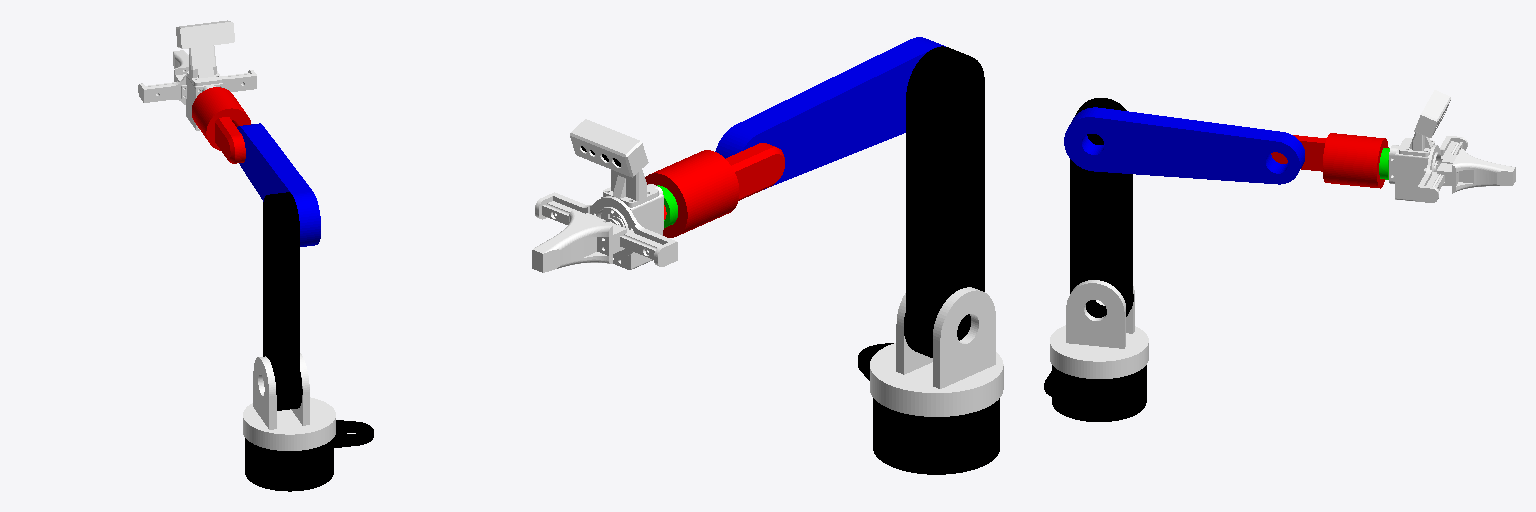
robot.urdf — my_arm:
<?xml version="1.0"?>
<robot name="my_arm" xmlns:xacro="http://www.ros.org/wiki/xacro">

    <!--
      Homing reference (real arm resting on all 5 switches), in model radians:
        base_joint = 0.00   joint_1 = 0.40   joint_2 = -1.25   joint_3 = 1.54   joint_4 = -1.57
      Joint limits keep a 0.02 rad (~1 deg) margin inside each switch so MoveIt never
      plans onto a switch. The far-side limits are kept as you set them.
    -->

    <material name="red">
        <color rgba="1 0 0 1"/>
    </material>

    <material name="white">
        <color rgba="1 1 1 1"/>
    </material>

    <material name="blue">
        <color rgba="0 0 1 1"/>
    </material>

    <material name="black">
      <color rgba="0 0 0 1"/>
    </material>

    <material name="green">
      <color rgba="0 1 0 1"/>
    </material>

    <link name="world"/>

    <joint name="world_to_base" type="fixed">
        <parent link="world"/>
        <child link="base_link"/>
        <origin xyz="0 0 0" rpy="0 0 0"/>
    </joint>

    <link name="base_link">
        <visual>
            <origin xyz="0 0 0" rpy="0 0 2.65"/>
            <geometry>
              <mesh filename="package://robot_arm/mesh/base_link.stl" scale="0.001 0.001 0.001"/>
            </geometry>
            <material name="black"/>
        </visual>
        <collision>
            <origin xyz="0 0 0" rpy="0 0 2.65"/>
            <geometry>
              <mesh filename="package://robot_arm/mesh/base_link.stl" scale="0.001 0.001 0.001"/>
            </geometry>
        </collision>
    </link>

    <link name="link_1">
        <visual>
            <origin xyz="0 0 0" rpy="0 0 0"/>
            <geometry>
              <mesh filename="package://robot_arm/mesh/link_1.stl" scale="0.001 0.001 0.001"/>
            </geometry>
            <material name="white"/>
        </visual>
        <collision>
            <origin xyz="0 0 0" rpy="0 0 0"/>
            <geometry>
              <mesh filename="package://robot_arm/mesh/link_1.stl" scale="0.001 0.001 0.001"/>
            </geometry>
        </collision>
    </link>

    <link name="link_2">
        <visual>
            <origin xyz="0 0 0" rpy="0 0 0"/>
            <geometry>
              <mesh filename="package://robot_arm/mesh/link_2.stl" scale="0.001 0.001 0.001"/>
            </geometry>
            <material name="black"/>
        </visual>
        <collision>
            <origin xyz="0 0 0" rpy="0 0 0"/>
            <geometry>
              <mesh filename="package://robot_arm/mesh/link_2.stl" scale="0.001 0.001 0.001"/>
            </geometry>
        </collision>
    </link>

    <link name="link_3">
        <visual>
            <origin xyz="0 0 0" rpy="0 0 0"/>
            <geometry>
                <mesh filename="package://robot_arm/mesh/link_3.stl" scale="0.001 0.001 0.001"/>
            </geometry>
            <material name="blue"/>
        </visual>
        <collision>
            <origin xyz="0 0 0" rpy="0 0 0"/>
            <geometry>
                <mesh filename="package://robot_arm/mesh/link_3.stl" scale="0.001 0.001 0.001"/>
            </geometry>
        </collision>
    </link>

    <link name="link_4">
        <visual>
            <origin xyz="0 0 0" rpy="1.5708 0 0"/>
            <geometry>
                <mesh filename="package://robot_arm/mesh/link_4.stl" scale="0.001 0.001 0.001"/>
            </geometry>
            <material name="red"/>
        </visual>
        <collision>
            <origin xyz="0 0 0" rpy="1.5708 0 0"/>
            <geometry>
              <mesh filename="package://robot_arm/mesh/link_4.stl" scale="0.001 0.001 0.001"/>
            </geometry>
        </collision>
    </link>

    <link name="link_5">
        <visual>
            <origin xyz="0 0 0" rpy="0 0 0"/>
            <geometry>
              <mesh filename="package://robot_arm/mesh/link_5.stl" scale="0.001 0.001 0.001"/>
            </geometry>
            <material name="green"/>
        </visual>
        <collision>
            <origin xyz="0 0 0" rpy="0 0 0"/>
            <geometry>
              <mesh filename="package://robot_arm/mesh/link_5.stl" scale="0.001 0.001 0.001"/>
            </geometry>
        </collision>
    </link>

    <!-- ===================== GRIPPER (rack-and-pinion) ===================== -->
    <link name="gripper_base">
        <visual>
            <origin xyz="0 0 0.072405" rpy="1.5708 0 -1.5708"/>
            <geometry>
              <mesh filename="package://robot_arm/mesh/gripper_base.stl" scale="0.001 0.001 0.001"/>
            </geometry>
            <material name="white"/>
        </visual>
        <collision>
            <!-- FIXED: was xyz="0 0 072405" (72 km away) and yaw +1.57 instead of -1.57 -->
            <origin xyz="0 0 0.072405" rpy="1.5708 0 -1.5708"/>
            <geometry>
              <mesh filename="package://robot_arm/mesh/gripper_base.stl" scale="0.001 0.001 0.001"/>
            </geometry>
        </collision>
    </link>

    <joint name="gripper_mount" type="fixed">
        <parent link="link_5"/>
        <child link="gripper_base"/>
        <origin xyz="0 0 0" rpy="0 0 0"/>
    </joint>

    <link name="left_finger">
        <visual>
            <origin xyz="0 0 0.0725" rpy="1.5708 0 1.5708"/>
            <geometry>
              <mesh filename="package://robot_arm/mesh/finger.stl" scale="0.001 0.001 0.001"/>
            </geometry>
            <material name="white"/>
        </visual>
        <collision>
            <!-- FIXED: was xyz="0 0 0725" (725 m away) -->
            <origin xyz="0 0 0.0725" rpy="1.5708 0 1.5708"/>
            <geometry>
              <mesh filename="package://robot_arm/mesh/finger.stl" scale="0.001 0.001 0.001"/>
            </geometry>
        </collision>
    </link>

    <!-- TODO: confirm the finger travel (0 to 0.04 m each side) against the real rack -->
    <joint name="left_finger_joint" type="prismatic">
        <parent link="gripper_base"/>
        <child link="left_finger"/>
        <origin xyz="0 0 0" rpy="0 0 0"/>
        <axis xyz="0 1 0"/>
        <limit lower="0.0" upper="0.04" effort="20" velocity="0.05"/>
    </joint>

    <link name="right_finger">
        <visual>
            <origin xyz="0 0 0.0725" rpy="1.5708 0 1.5708"/>
            <geometry>
              <mesh filename="package://robot_arm/mesh/finger.stl" scale="0.001 0.001 0.001"/>
            </geometry>
            <material name="white"/>
        </visual>
        <collision>
            <!-- FIXED: was xyz="0 0 0725" (725 m away) -->
            <origin xyz="0 0 0.0725" rpy="1.5708 0 1.5708"/>
            <geometry>
              <mesh filename="package://robot_arm/mesh/finger.stl" scale="0.001 0.001 0.001"/>
            </geometry>
        </collision>
    </link>

    <joint name="right_finger_joint" type="prismatic">
        <parent link="gripper_base"/>
        <child link="right_finger"/>
        <origin xyz="0 0 0" rpy="0 0 3.14159"/>
        <axis xyz="0 1 0"/>
        <limit lower="0.0" upper="0.04" effort="20" velocity="0.05"/>
        <mimic joint="left_finger_joint" multiplier="1.0" offset="0.0"/>
    </joint>
    <!-- =================== END GRIPPER =================== -->

    <!-- ===================== DEPTH CAMERA (on the gripper) =====================
      The camera mount is part of gripper_base.stl, so it needs nothing here.
      camera_link follows the ROS camera convention: x = the direction the camera looks,
      y = left, z = up. The camera driver adds its own optical frames below camera_link,
      so they are NOT defined here (defining them too would conflict with the driver).

      MEASURE AND SET (from your CAD, in the gripper_base frame):
        gripper_base frame = link_5 frame: z points out along the gripper toward the
        fingertips, the fingers slide along y, x is the remaining side.
        - xyz: where the camera's mounting point / front face centre is (metres)
        - rpy "0 -1.5708 0" makes the camera look along +z (toward the fingertips).
          If it is tilted down toward the fingers by an angle a, use "0 -(1.5708 - a) 0"
          or adjust after checking in RViz.
      If the driver's base frame is not called camera_link, rename the link to match it.
    -->
    <link name="camera_link">
        <visual>
            <origin xyz="0 0 0" rpy="0 1.57 0"/>
            <geometry>
                <box size="0.022 0.060 0.015"/>   <!-- depth (along view) x width x height, metres -->
            </geometry>
            <material name="black"/>
        </visual>
        <collision>
            <origin xyz="0 0 0" rpy="0 0 0"/>
            <geometry>
                <box size="0.025 0.090 0.025"/>
            </geometry>
        </collision>
    </link>

    <joint name="camera_joint" type="fixed">
        <parent link="gripper_base"/>
        <child link="camera_link"/>
        <origin xyz="0.078 0.006 0.070" rpy="0 -1.92 0"/>   <!-- PLACEHOLDER: replace with measured values -->
    </joint>
    <!-- =================== END CAMERA =================== -->


    <!-- switch at 0.00 (lower end) -->
    <joint name="base_joint" type="revolute">
        <parent link="base_link"/>
        <child link="link_1"/>
        <origin xyz="0 0 0.0615" rpy="0 0 0"/>
        <axis xyz="0 0 1"/>
        <limit lower="0.02" upper="2.65" effort="10" velocity="1"/>
    </joint>

    <!-- switch at 0.40 (upper end) -->
    <joint name="joint_1" type="revolute">
        <parent link="link_1"/>
        <child link="link_2"/>
        <origin xyz="0 0.0114 0.075" rpy="0 0 -1.5708"/>
        <axis xyz="1 0 0"/>
        <limit lower="-1.60" upper="0.38" effort="10" velocity="1"/>
    </joint>

    <!-- switch at -1.25 (lower end) -->
    <joint name="joint_2" type="revolute">
        <parent link="link_2"/>
        <child link="link_3"/>
        <origin xyz="0.03 0 0.24" rpy="0 1.5708 0"/>
        <axis xyz="0 0 1"/>
        <limit lower="-1.23" upper="1.60" effort="10" velocity="1"/>
    </joint>

    <!-- switch at 1.54 (upper end) -->
    <joint name="joint_3" type="revolute">
        <parent link="link_3"/>
        <child link="link_4"/>
        <origin xyz="0 0.24 -0.015" rpy="-1.5708 3.14159 0"/>
        <axis xyz="0 1 0"/>
        <limit lower="-1.54" upper="1.52" effort="10" velocity="1"/>
    </joint>

    <!-- switch at -1.57 (lower end) -->
    <joint name="joint_4" type="revolute">
        <parent link="link_4"/>
        <child link="link_5"/>
        <origin xyz="0 0 0.13" rpy="0 0 0"/>
        <axis xyz="0 0 1"/>
        <limit lower="-1.55" upper="3.14" effort="10" velocity="1"/>
    </joint>

    <ros2_control name="real_arm" type="system">
        <hardware>
            <plugin>arm_hardware/ArmHardwareInterface</plugin>
            <param name="serial_port">auto</param>
            <param name="homing_timeout">180</param>
        </hardware>
        <joint name="base_joint">
            <command_interface name="position"/>
            <state_interface name="position"/>
        </joint>
        <joint name="joint_1">
            <command_interface name="position"/>
            <state_interface name="position"/>
        </joint>
        <joint name="joint_2">
            <command_interface name="position"/>
            <state_interface name="position"/>
        </joint>
        <joint name="joint_3">
            <command_interface name="position"/>
            <state_interface name="position"/>
        </joint>
        <joint name="joint_4">
            <command_interface name="position"/>
            <state_interface name="position"/>
        </joint>
        <joint name="left_finger_joint">
            <command_interface name="position"/>
            <state_interface name="position"/>
        </joint>
        <joint name="right_finger_joint">
            <state_interface name="position"/>
            <param name="mimic">left_finger_joint</param>
            <param name="multiplier">1.0</param>
        </joint>
    </ros2_control>

</robot>

--- Render facts (derived) ---
The picture shows the robot from 3 angles, left to right: view 1: azimuth 30°, elevation 25°; view 2: azimuth 150°, elevation 25°; view 3: azimuth 270°, elevation 25°; orthographic projection.
Model my_arm with 11 links and 10 joints (5 revolute, 2 prismatic, 3 fixed), rooted at world, posed joints at zero except 1 at the middle of their limits (base_joint = 1.33).
Visible links, largest first — view 1: link_2, link_1, base_link, gripper_base, link_3, link_4; view 2: link_2, link_3, link_1, gripper_base, base_link, link_4, right_finger, left_finger; view 3: link_3, link_2, link_1, gripper_base, base_link, link_4, left_finger.
Link boxes in pixels (x1,y1,x2,y2): link_2: [263, 192, 302, 410]; link_1: [243, 353, 335, 450]; base_link: [245, 420, 373, 491]; gripper_base: [138, 20, 256, 130]; link_3: [237, 123, 320, 246]; link_4: [192, 87, 250, 163]; link_2: [904, 46, 984, 357]; link_3: [715, 37, 945, 189]; link_1: [870, 287, 1003, 416]; gripper_base: [535, 119, 677, 269]; base_link: [858, 343, 999, 474]; link_4: [645, 143, 784, 237]; right_finger: [538, 218, 626, 272]; left_finger: [532, 210, 605, 270]; link_3: [1064, 107, 1304, 184]; link_2: [1070, 98, 1133, 317]; link_1: [1050, 280, 1148, 378]; gripper_base: [1389, 90, 1467, 202]; base_link: [1044, 365, 1146, 421]; link_4: [1271, 133, 1388, 188]; left_finger: [1437, 157, 1513, 193].
Size in the robot's own frame: 0.2523 by 0.5979 by 0.4736 metres.
Meshes: 8 distinct files referenced, 9 mesh visuals loaded (8 binary STL).
